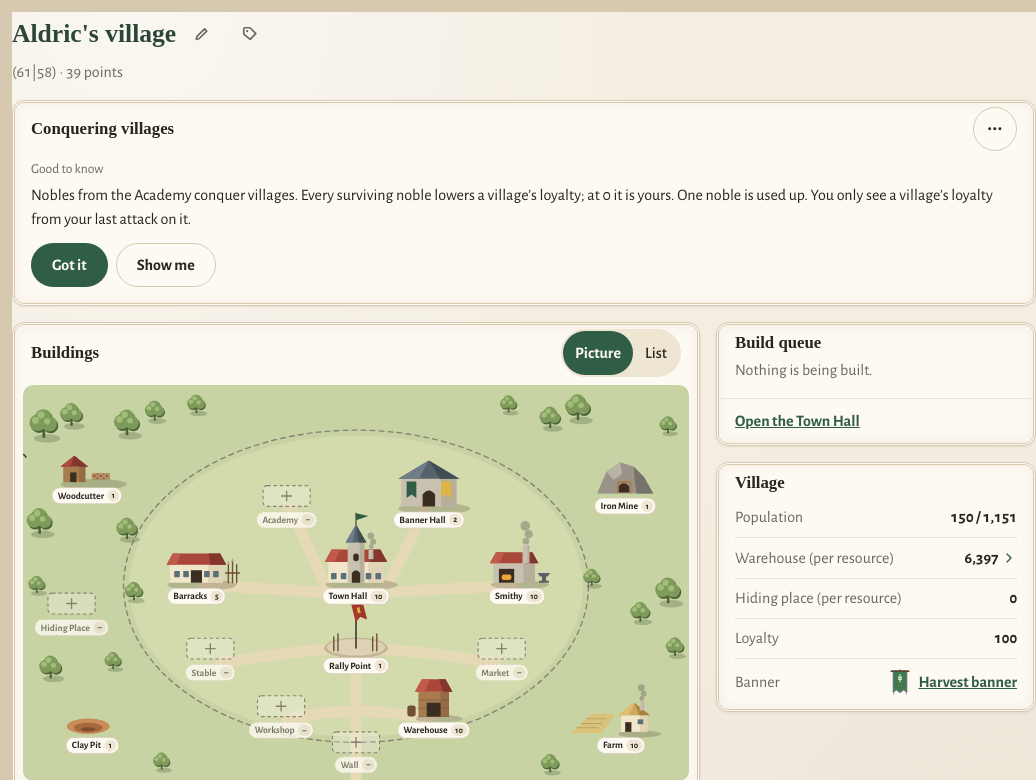
Test: the tutorial card on the village page › shows a lesson as a tip with "Got it" as the lead and "Show me" next to it
Expected: the text "Good to know" is shown, x1=31 y1=162 x2=104 y2=176
Expected: the heading "Conquering villages" is shown, x1=31 y1=119 x2=174 y2=138
Click the button "Got it": (69, 265) x1=31 y1=243 x2=108 y2=287
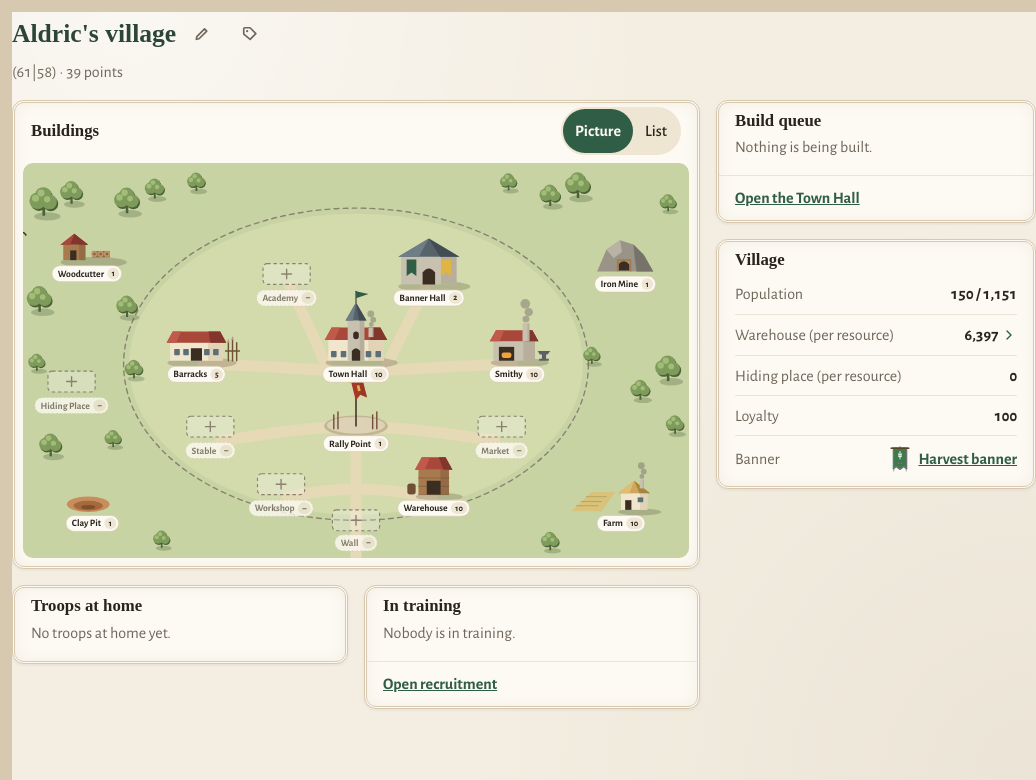
Now the text "Good to know" is gone
